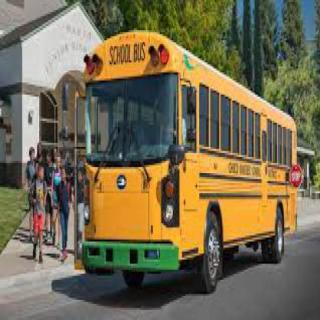Normal_vehicle: (69, 12, 319, 306)
